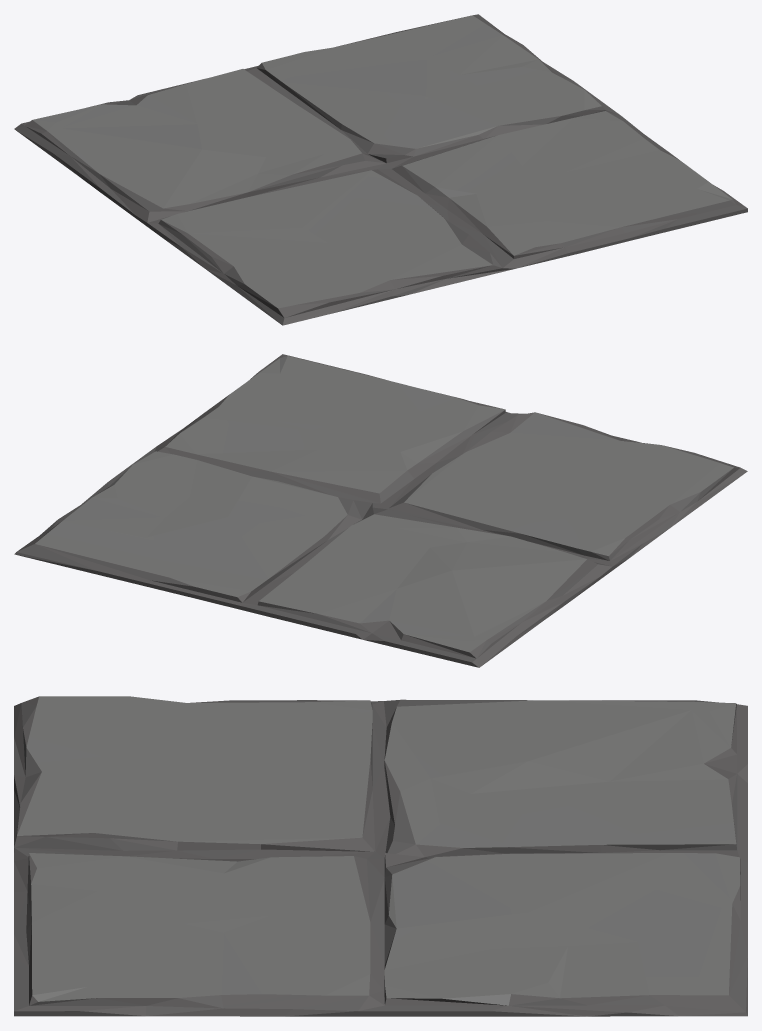
File: SM_Env_Tiles_09.glb
The picture shows the model from 3 angles, top to bottom: view 1: azimuth 30°, elevation 25°; view 2: azimuth 150°, elevation 25°; view 3: azimuth 270°, elevation 25°; orthographic projection. The views are drawn at different scales.
Parts seen in each view (by area): view 1: SM_Env_Tiles_09; view 2: SM_Env_Tiles_09; view 3: SM_Env_Tiles_09.
Boxes of the visible parts, bbox=[...] form: SM_Env_Tiles_09: bbox=[14, 14, 747, 325]; SM_Env_Tiles_09: bbox=[14, 354, 747, 667]; SM_Env_Tiles_09: bbox=[14, 696, 747, 1016].
Bounding box in the file's own units: 0.05 × 0.00128 × 0.05.
1 material, 1 textured.
